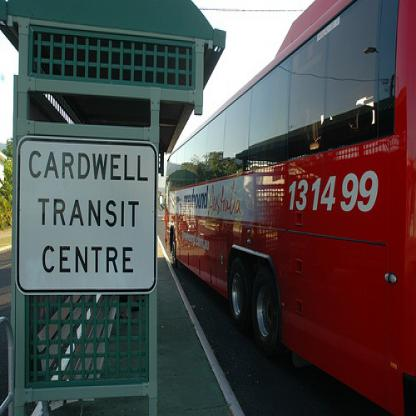bus: (158, 1, 415, 415)
